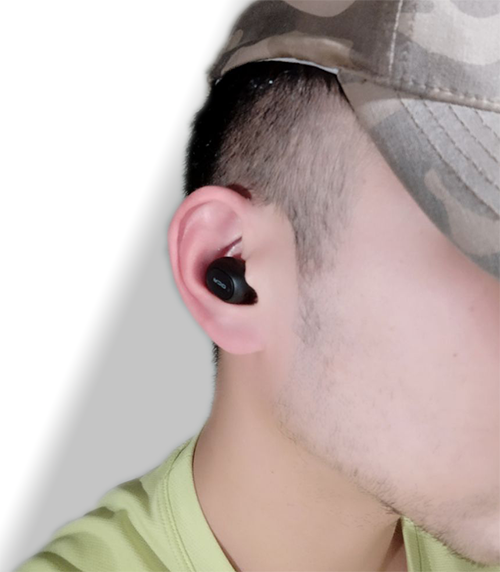earphone: (167, 185, 281, 357)
